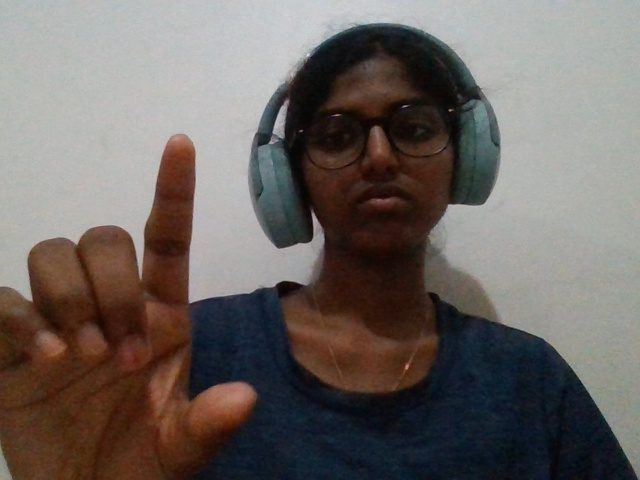D: (2, 103, 262, 471)
